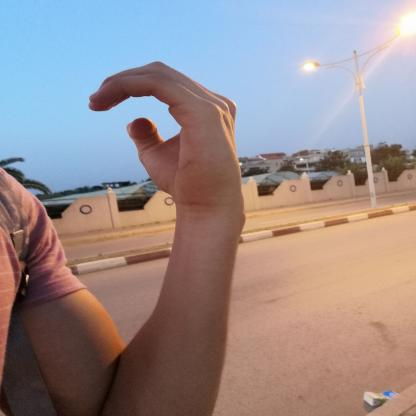JEEM: (76, 52, 270, 219)
